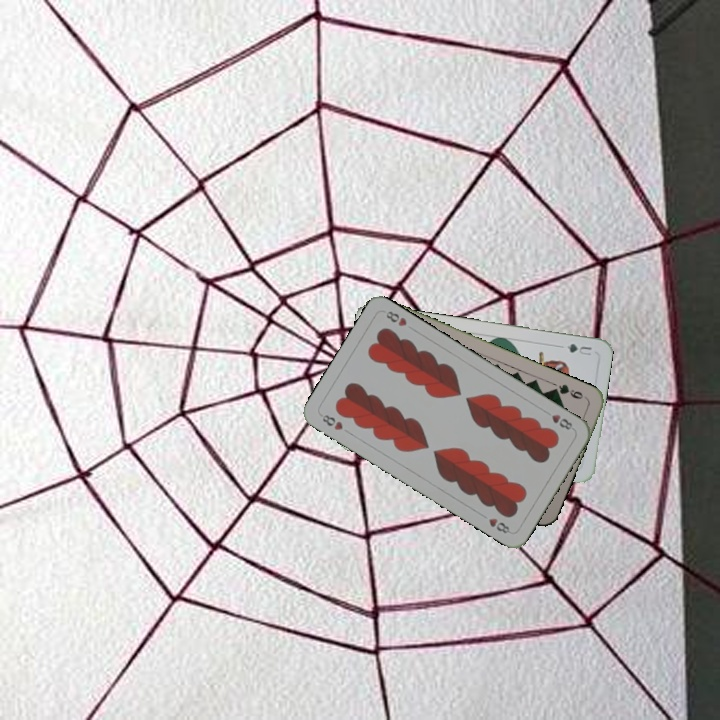G9: (549, 380, 590, 402)
GU: (562, 339, 594, 358)
H8: (540, 406, 575, 432), (316, 410, 346, 433)
